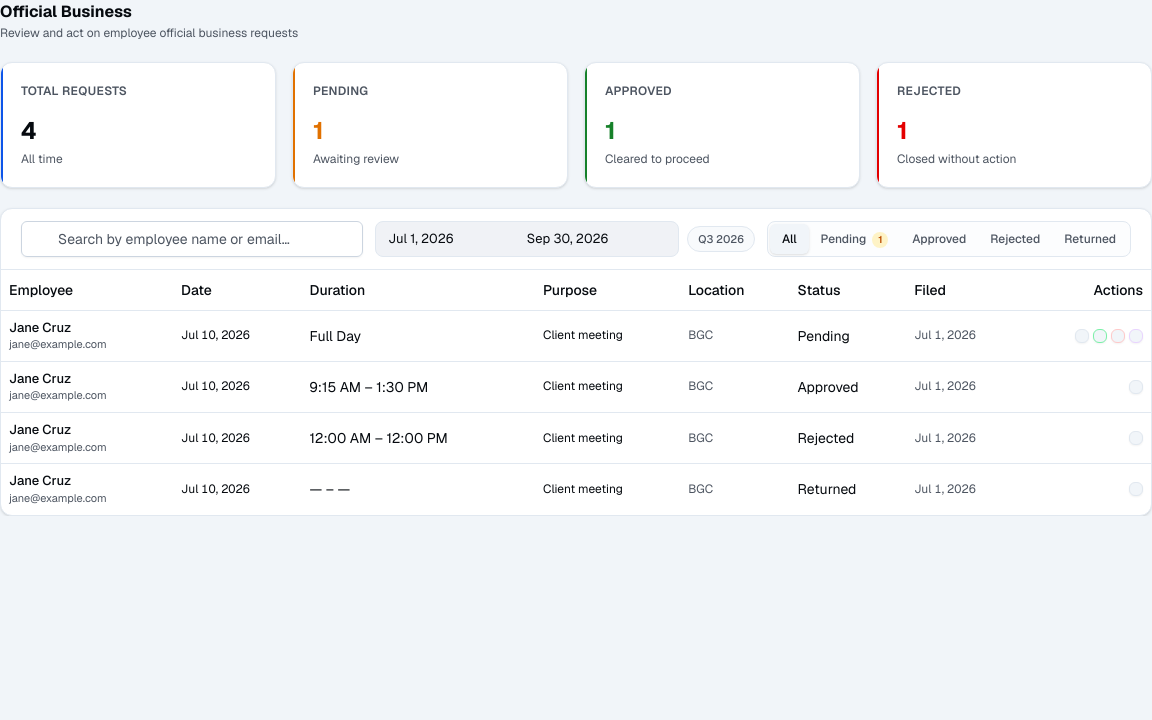
Test case: ObManagementSection — review modal (view mode) › view mode with a reviewer but no review date omits the date suffix
The width and height of the screenshot is (1152, 720).
What coordinates should you click on to do the following:
click the button with test id "ob-view"
I would click on:
 (1136, 438)
Its box is [1129, 431, 1143, 445].
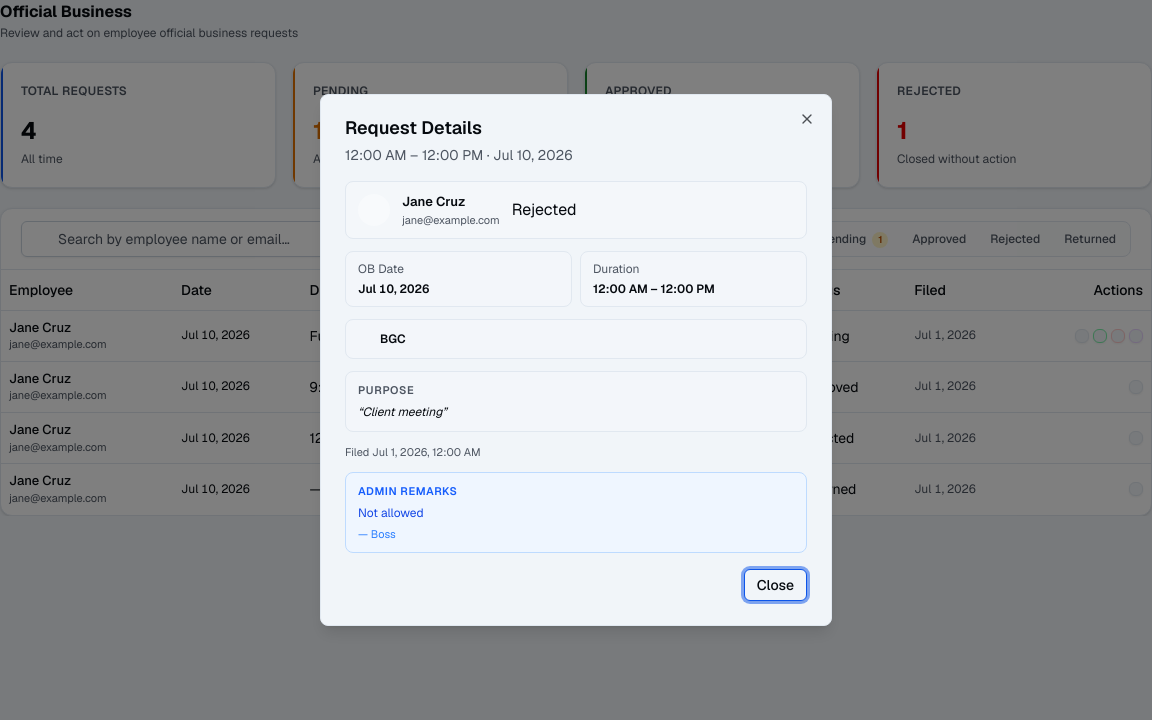
Expected: the text "— Boss" is shown, [358, 526, 396, 540]
